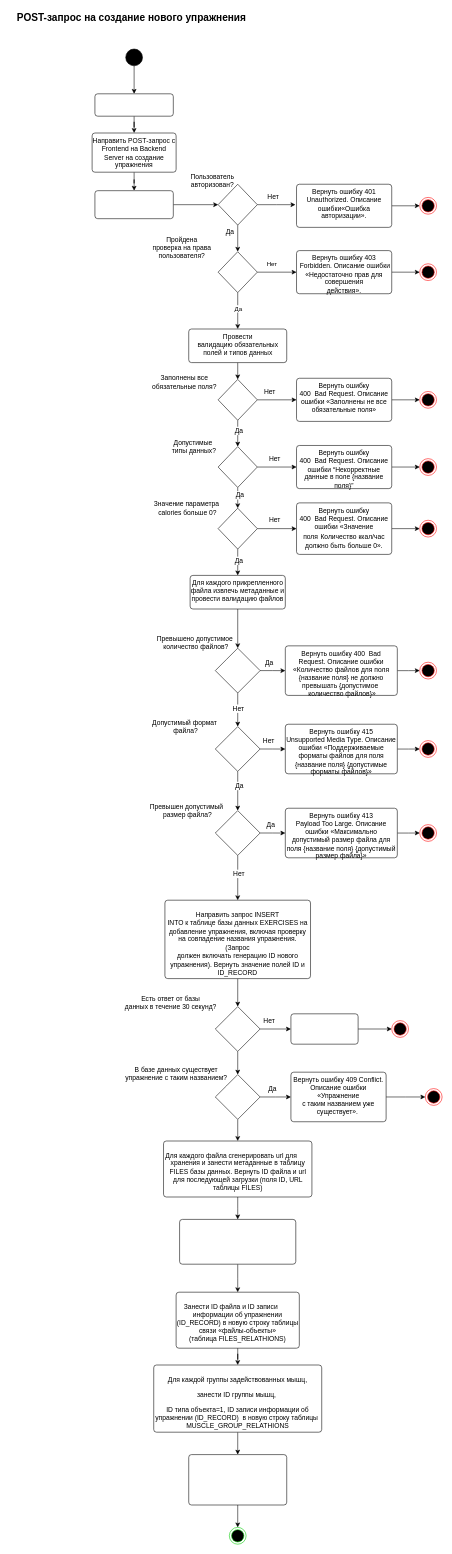
The diagram is 452 pixels wide and 1554 high, and some of its shapes have lost their labels. Here are the shapes that lost their labels. From the top down, the centre of each, then its label:
At [133,104]: "Провести валидацию на фронтенде".
At [133,204]: "Провести проверку авторизации и прав доступа".
At [324,1028]: "Вернуть ошибку 504 Gateway Timeout".
At [237,1241]: "Для каждого файла произвести загрузку файла по указанному url хранилища".
At [237,1479]: "Вернуть на Frontend JSON-ответ с ID упражнения и статусом ответа 201 created".
